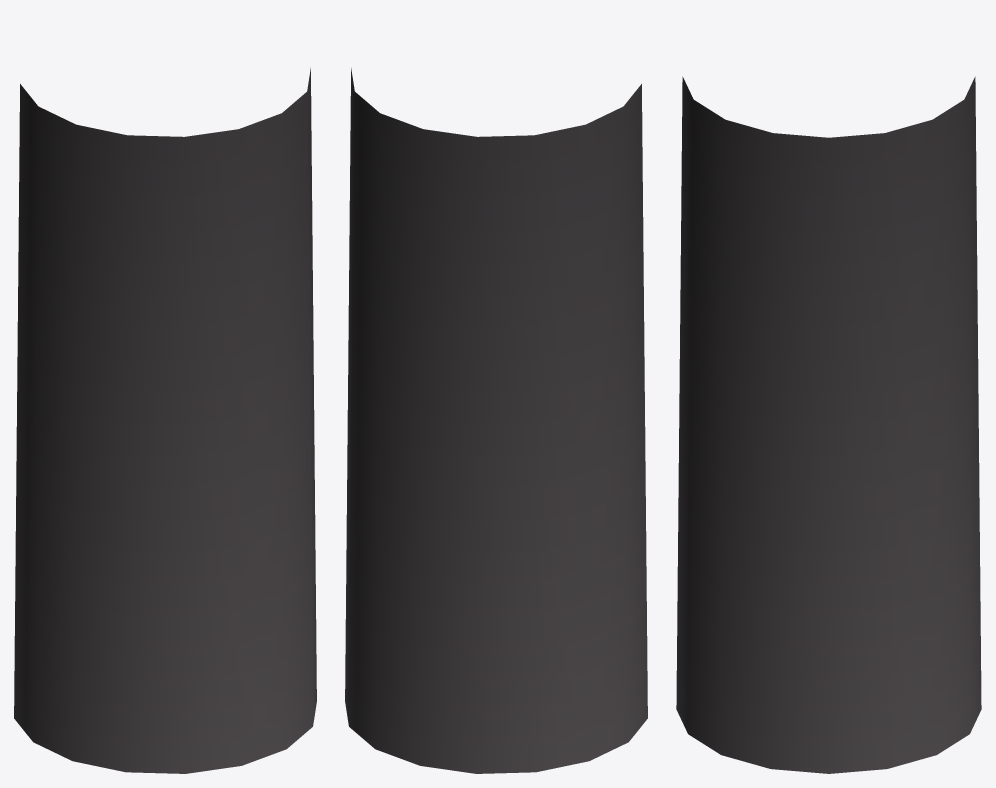
The model's file is PRP_Brazier.glb.
The picture shows the model from 3 angles, left to right: view 1: azimuth 30°, elevation 25°; view 2: azimuth 150°, elevation 25°; view 3: azimuth 270°, elevation 25°; orthographic projection.
Visible parts, largest first — view 1: PRP_Brazier; view 2: PRP_Brazier; view 3: PRP_Brazier.
Boxes of the visible parts, box(x1,y1,x2,y2) form: PRP_Brazier: box(14, 68, 316, 773); PRP_Brazier: box(345, 68, 647, 773); PRP_Brazier: box(676, 76, 981, 773).
Size of the model in its own units: 0.48 by 1.1 by 0.48.
Materials: 1 (1 with a texture image).
